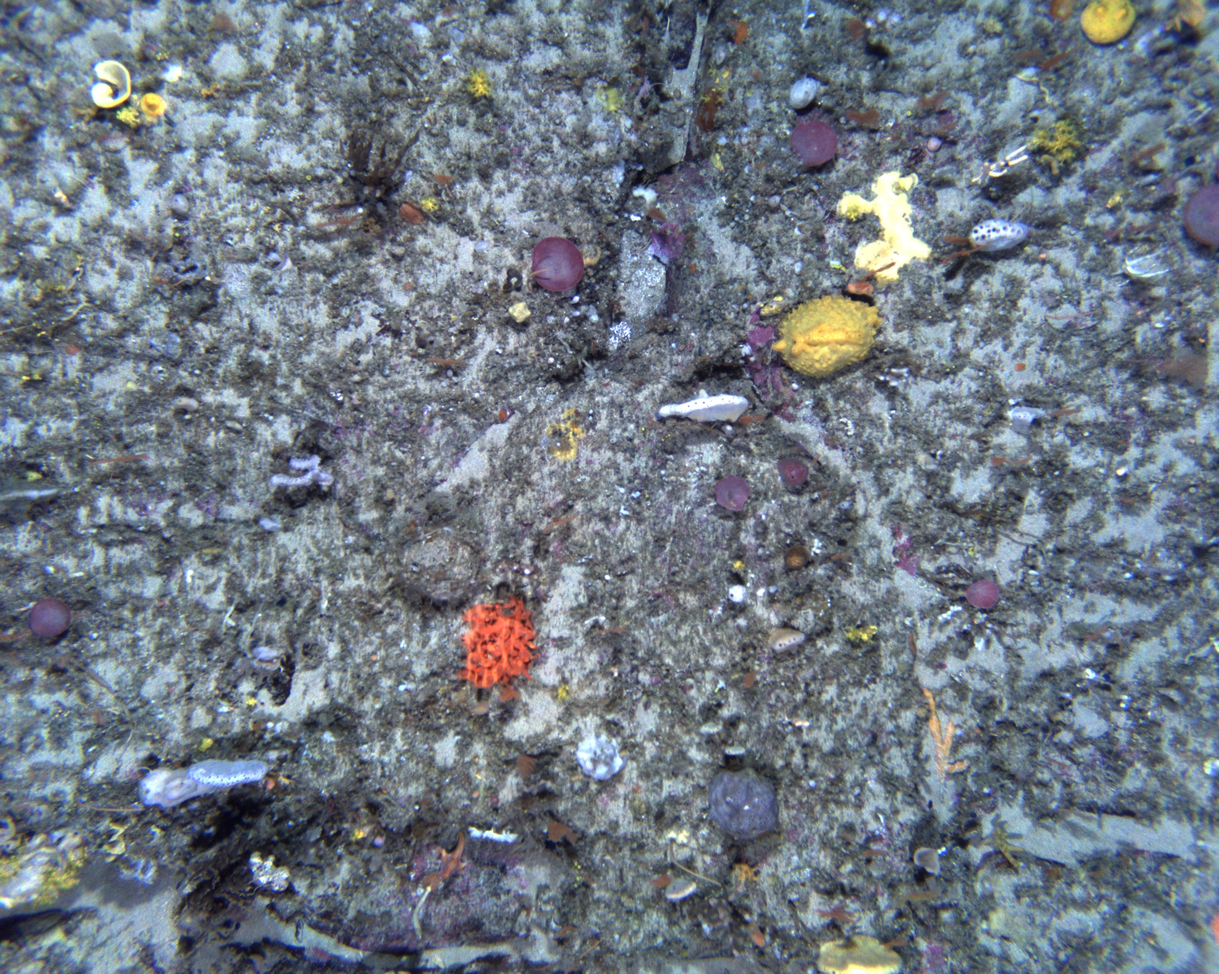Brachionichthyidae: (435, 826, 468, 882)
